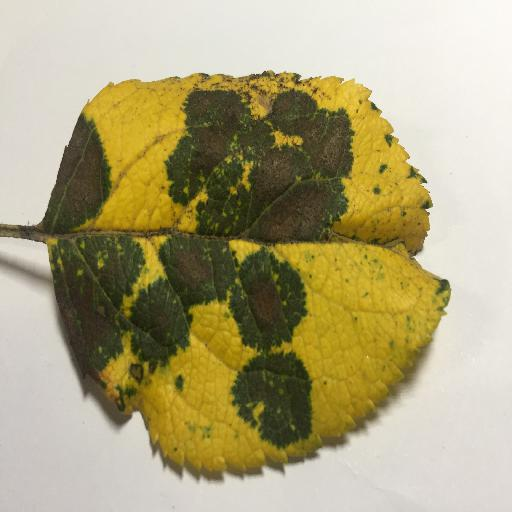Brown_Spot: (198, 99, 340, 246), (55, 261, 112, 342), (58, 147, 109, 213), (242, 272, 289, 329), (175, 245, 219, 292)
